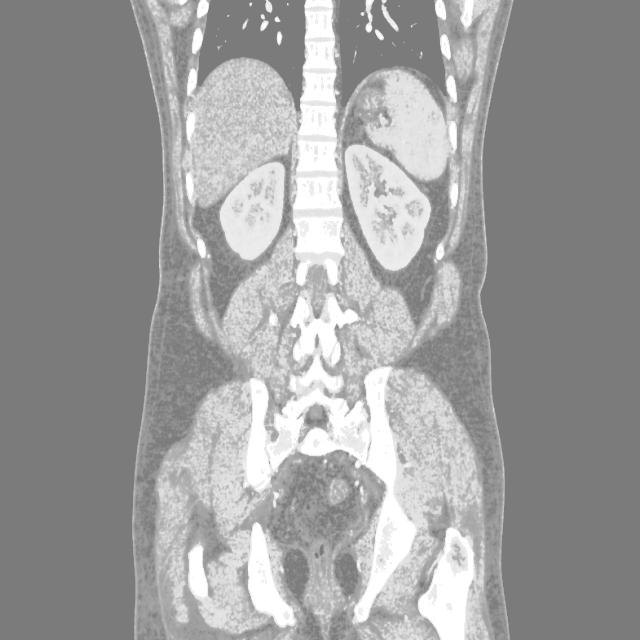NORMAL: (132, 48, 532, 513)
